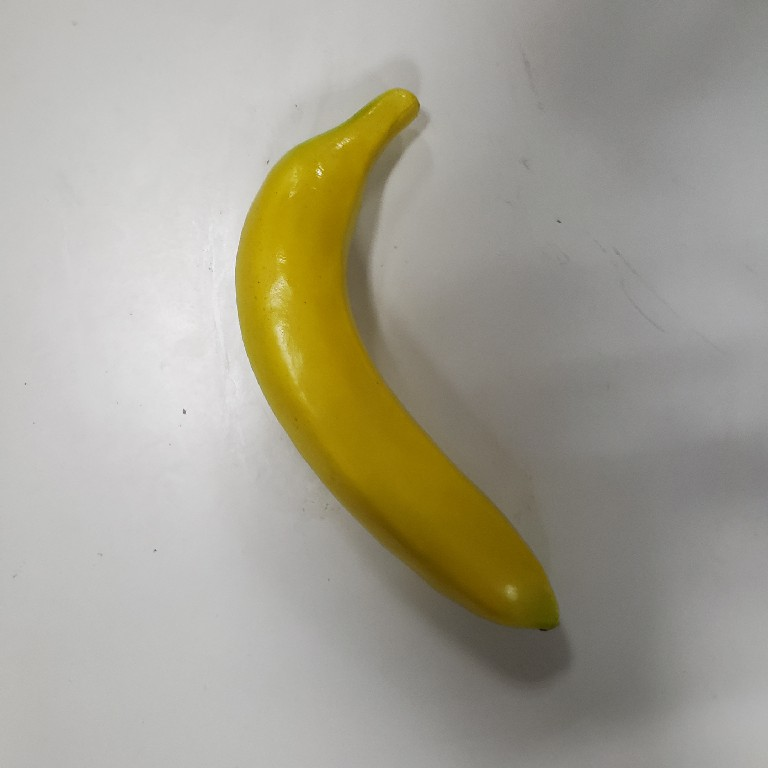fruit_banana: (229, 84, 568, 640)
